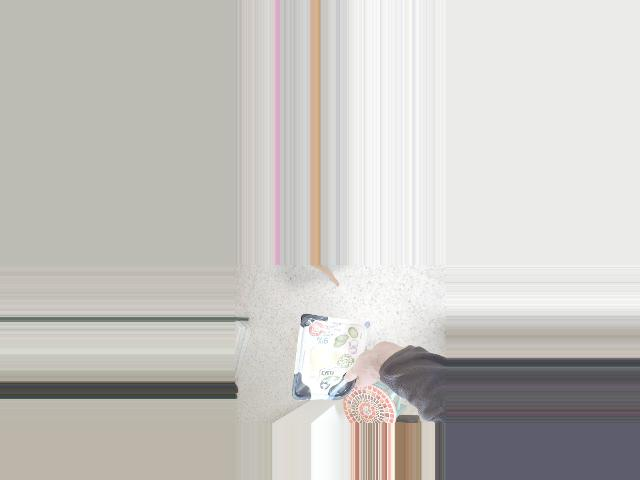cheese: (316, 315, 382, 388)
